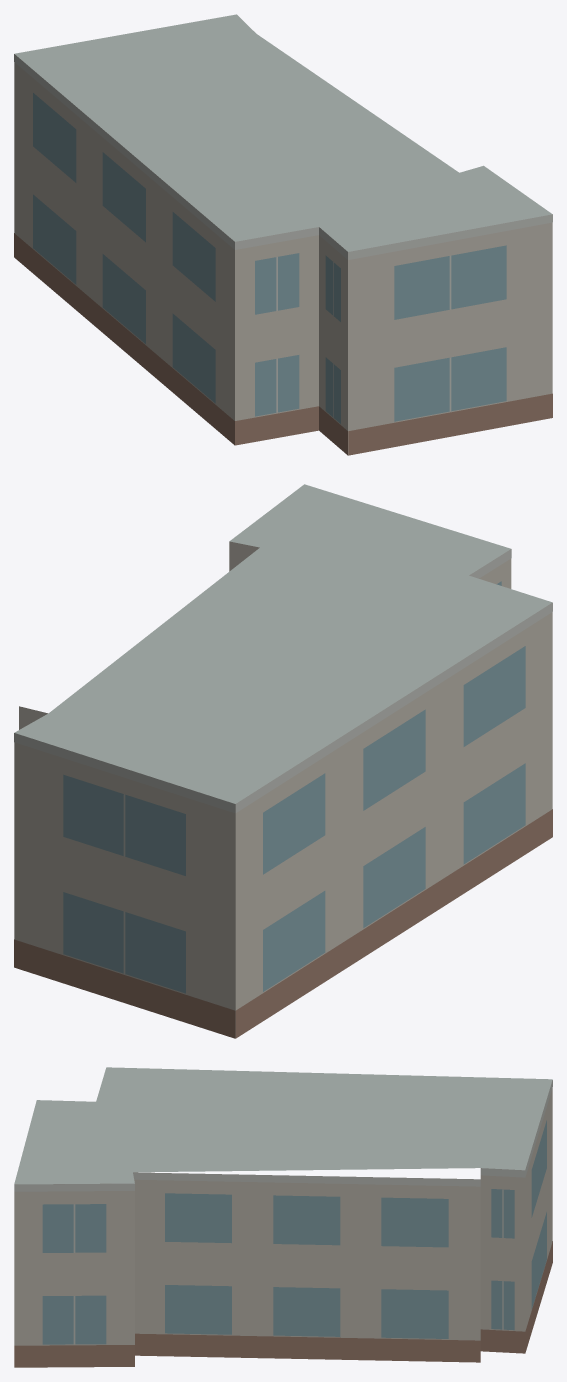
File: survey-upis-32589039.glb
3 views of the same model, one above another, from view 1: azimuth 30°, elevation 25°; view 2: azimuth 150°, elevation 25°; view 3: azimuth 270°, elevation 25° (orthographic). The views are drawn at different scales.
Visible parts, largest first — view 1: survey-upis-32589039.tmp; view 2: survey-upis-32589039.tmp; view 3: survey-upis-32589039.tmp.
Boxes of the visible parts, bbox=[...] form: survey-upis-32589039.tmp: bbox=[14, 14, 552, 455]; survey-upis-32589039.tmp: bbox=[14, 484, 552, 1038]; survey-upis-32589039.tmp: bbox=[14, 1067, 552, 1367].
Bounding box in the file's own units: 8.37 × 6.1 × 16.26.
